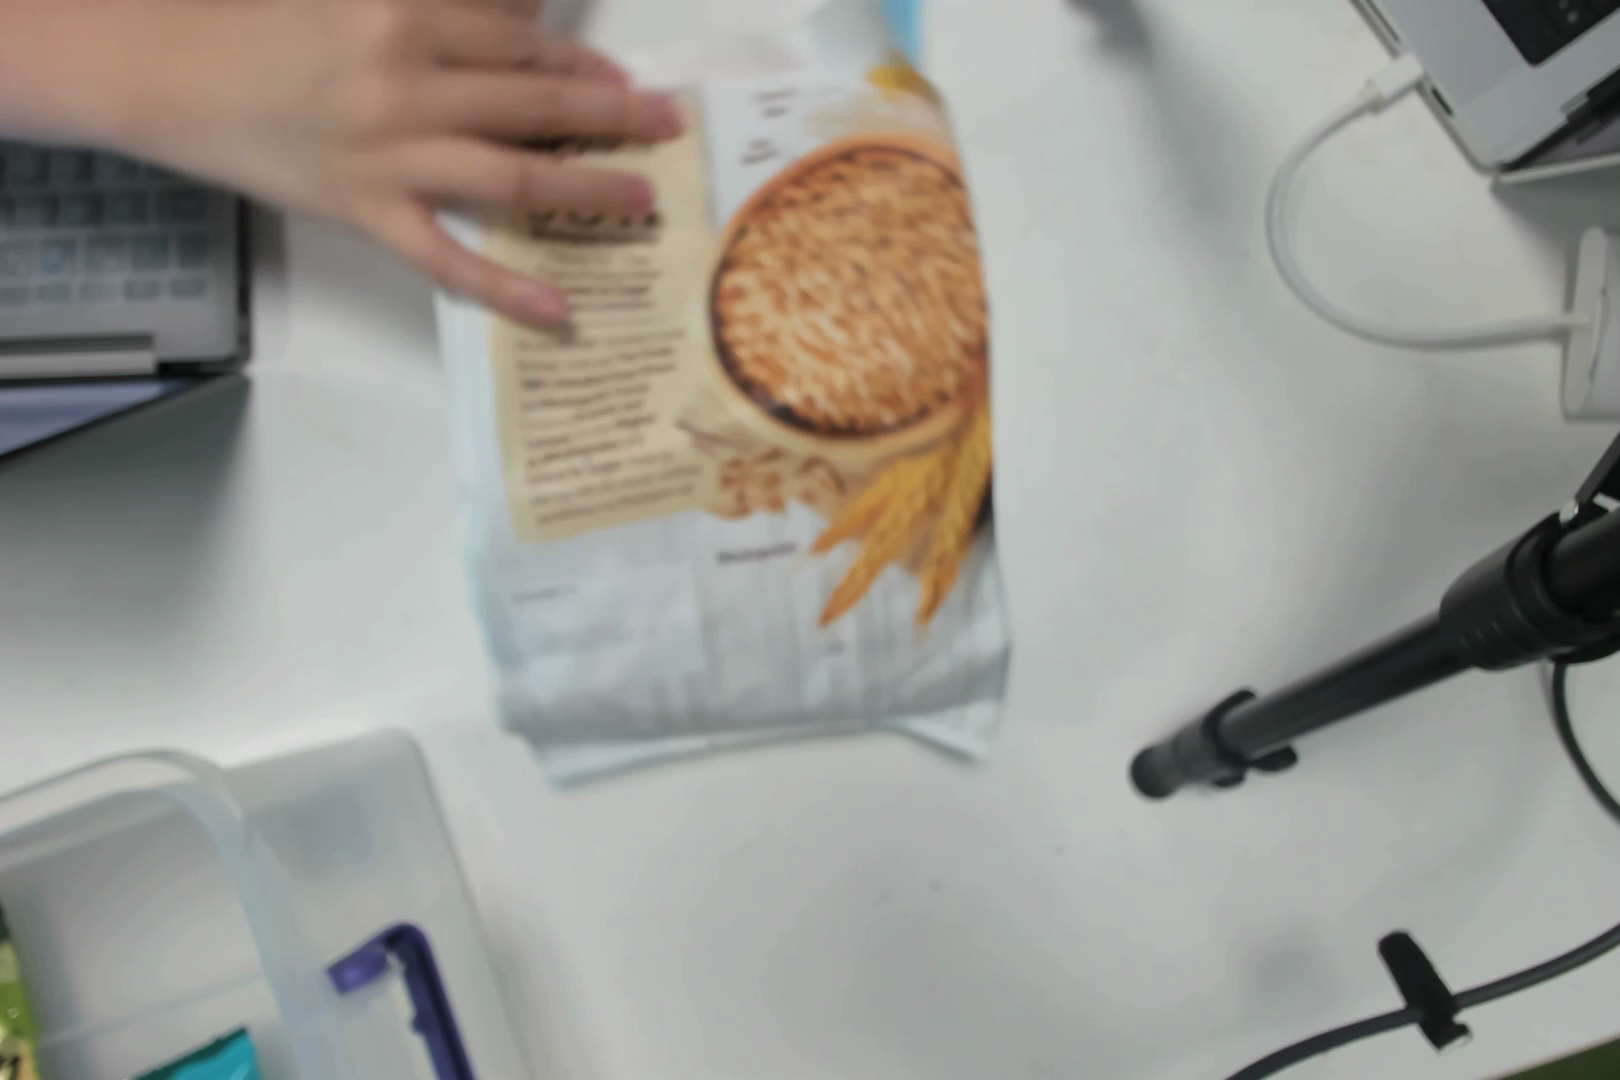e: (505, 19, 965, 718)
